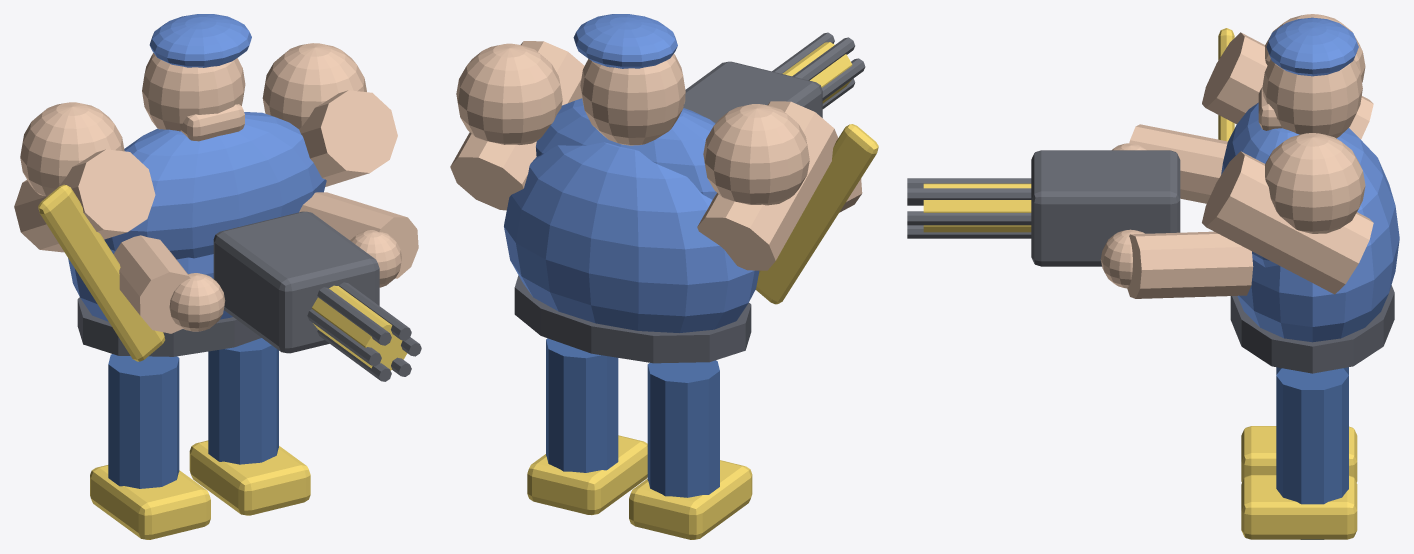
The model's file is hero.glb.
3 views of the same model, side by side, from view 1: azimuth 30°, elevation 25°; view 2: azimuth 150°, elevation 25°; view 3: azimuth 270°, elevation 25° (orthographic).
Parts seen in each view (by area): view 1: hero; view 2: hero; view 3: hero.
Part boxes in pixels (x1,y1,x2,y2): hero: [14, 14, 421, 539]; hero: [450, 14, 878, 539]; hero: [907, 14, 1399, 539].
Size of the model in its own units: 2.55 by 3.18 by 2.98.
